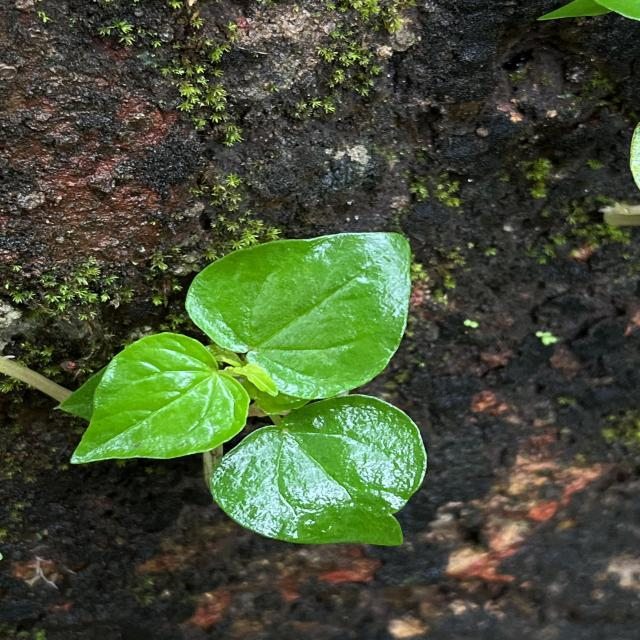Peperomia pellucida: (184, 230, 414, 403), (208, 392, 428, 548), (68, 331, 253, 466)
